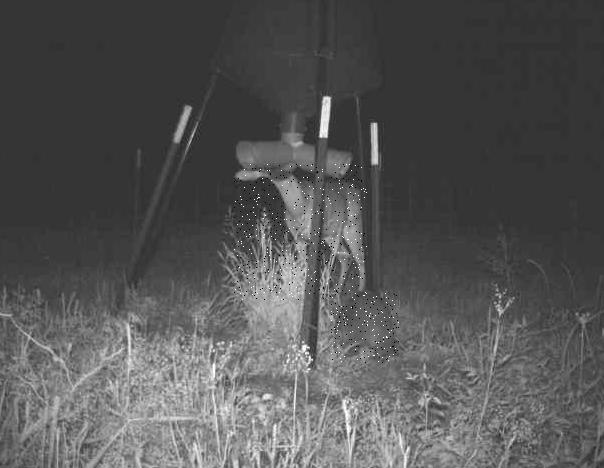Deer: (234, 164, 367, 300)
Raccoon: (330, 291, 398, 364)
